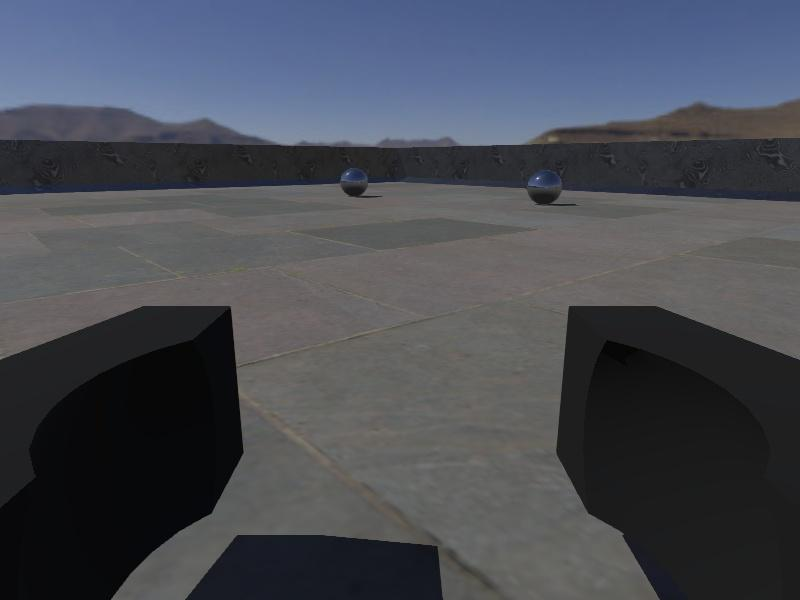steel ball: (525, 168, 564, 205), (339, 166, 370, 196)
